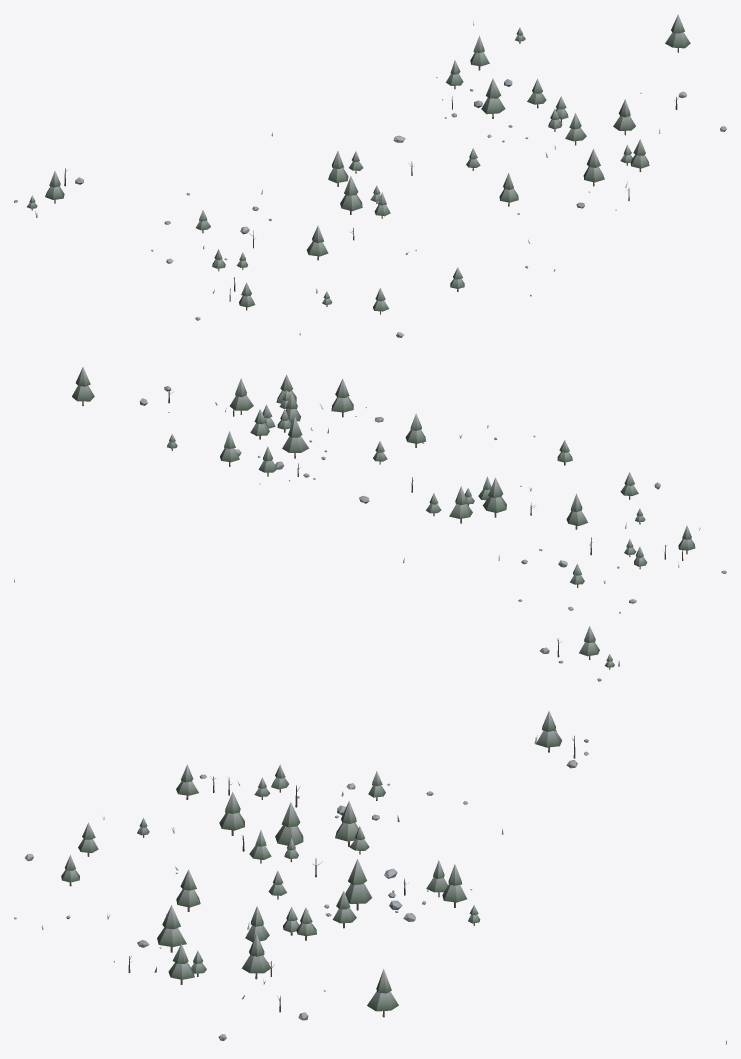
Rendered from frost_land_scatter_c23_09_lod1.glb.
3 views of the same model, one above another, from view 1: azimuth 30°, elevation 25°; view 2: azimuth 150°, elevation 25°; view 3: azimuth 270°, elevation 25° (orthographic). The views are drawn at different scales.
Visible parts, largest first — view 1: frost_land_scatter_c23_09_lod1; view 2: frost_land_scatter_c23_09_lod1; view 3: frost_land_scatter_c23_09_lod1.
Boxes of the visible parts, x1=… form: frost_land_scatter_c23_09_lod1: x1=14, y1=14, x2=726, y2=337; frost_land_scatter_c23_09_lod1: x1=14, y1=367, x2=726, y2=681; frost_land_scatter_c23_09_lod1: x1=14, y1=710, x2=726, y2=1044.
Size of the model in its own units: 254 by 49.45 by 209.
